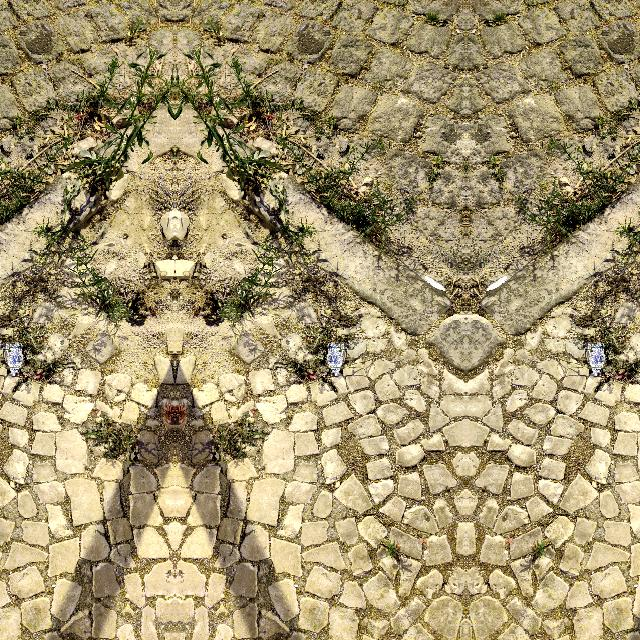Plastic: (323, 339, 349, 379), (582, 339, 608, 379), (0, 339, 25, 379)
